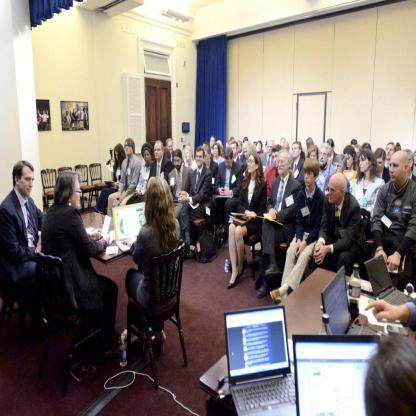board: (214, 305, 298, 410), (292, 335, 381, 415), (319, 265, 377, 338), (365, 254, 415, 307), (112, 201, 148, 252), (350, 261, 360, 320), (317, 315, 332, 338), (120, 331, 128, 369), (225, 256, 231, 274)
